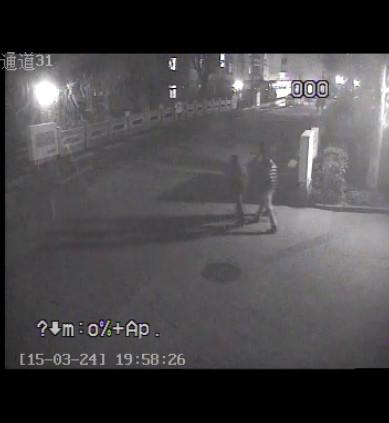person: (248, 154, 278, 228), (225, 148, 251, 222), (254, 142, 275, 159)
